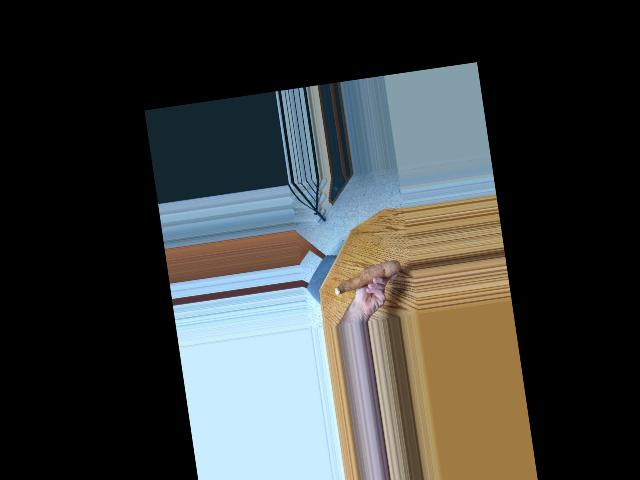sweet_potato: (329, 256, 402, 298)
